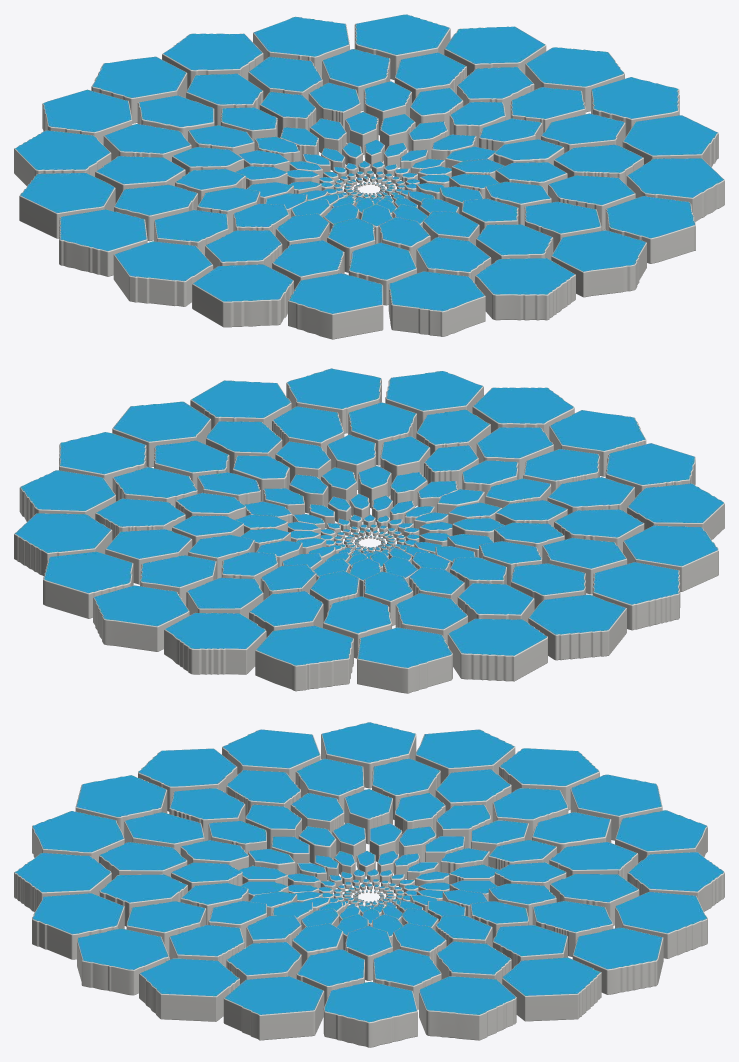
File: teal-original.glb
3 renders of one model, top to bottom at view 1: azimuth 30°, elevation 25°; view 2: azimuth 150°, elevation 25°; view 3: azimuth 270°, elevation 25°, orthographic.
Visible parts, largest first — view 1: teal-original | cell-013, teal-original | cell-011, teal-original | cell-012, teal-original | cell-010, teal-original | cell-014, teal-original | cell-009, teal-original | cell-015, teal-original | cell-008, teal-original | cell-016, teal-original | cell-007, teal-original | cell-017, teal-original | cell-002 (+65 smaller); view 2: teal-original | cell-019, teal-original | cell-017, teal-original | cell-018, teal-original | cell-020, teal-original | cell-016, teal-original | cell-001, teal-original | cell-015, teal-original | cell-002, teal-original | cell-014, teal-original | cell-003, teal-original | cell-013, teal-original | cell-004 (+65 smaller); view 3: teal-original | cell-006, teal-original | cell-004, teal-original | cell-005, teal-original | cell-003, teal-original | cell-007, teal-original | cell-002, teal-original | cell-008, teal-original | cell-009, teal-original | cell-001, teal-original | cell-010, teal-original | cell-020, teal-original | cell-015 (+65 smaller).
Part boxes in pixels (x1=…): teal-original | cell-013: x1=192, y1=264, x2=293, y2=327; teal-original | cell-011: x1=388, y1=271, x2=485, y2=336; teal-original | cell-012: x1=288, y1=273, x2=383, y2=339; teal-original | cell-010: x1=475, y1=258, x2=575, y2=320; teal-original | cell-014: x1=113, y1=241, x2=213, y2=306; teal-original | cell-009: x1=551, y1=230, x2=646, y2=297; teal-original | cell-015: x1=59, y1=209, x2=147, y2=276; teal-original | cell-008: x1=605, y1=196, x2=695, y2=263; teal-original | cell-016: x1=19, y1=172, x2=115, y2=238; teal-original | cell-007: x1=626, y1=158, x2=724, y2=221; teal-original | cell-017: x1=14, y1=130, x2=111, y2=185; teal-original | cell-002: x1=354, y1=14, x2=450, y2=80; teal-original | cell-019: x1=255, y1=625, x2=353, y2=691; teal-original | cell-017: x1=447, y1=618, x2=547, y2=681; teal-original | cell-018: x1=357, y1=627, x2=452, y2=693; teal-original | cell-020: x1=164, y1=612, x2=266, y2=674; teal-original | cell-016: x1=528, y1=594, x2=626, y2=660; teal-original | cell-001: x1=93, y1=585, x2=189, y2=651; teal-original | cell-015: x1=592, y1=562, x2=680, y2=630; teal-original | cell-002: x1=43, y1=551, x2=133, y2=618; teal-original | cell-014: x1=623, y1=525, x2=718, y2=591; teal-original | cell-003: x1=14, y1=513, x2=112, y2=576; teal-original | cell-013: x1=627, y1=483, x2=724, y2=540; teal-original | cell-004: x1=19, y1=470, x2=115, y2=521; teal-original | cell-006: x1=223, y1=976, x2=324, y2=1040; teal-original | cell-004: x1=419, y1=976, x2=516, y2=1040; teal-original | cell-005: x1=323, y1=981, x2=417, y2=1047; teal-original | cell-003: x1=502, y1=957, x2=601, y2=1021; teal-original | cell-007: x1=139, y1=958, x2=239, y2=1021; teal-original | cell-002: x1=572, y1=927, x2=663, y2=994; teal-original | cell-008: x1=77, y1=928, x2=168, y2=995; teal-original | cell-009: x1=32, y1=893, x2=124, y2=959; teal-original | cell-001: x1=615, y1=892, x2=707, y2=958; teal-original | cell-010: x1=14, y1=853, x2=111, y2=912; teal-original | cell-020: x1=627, y1=852, x2=724, y2=911; teal-original | cell-015: x1=321, y1=722, x2=416, y2=788.
Size of the model in its own units: 3.8 by 0.15 by 3.79.
2 materials, 1 textured.
